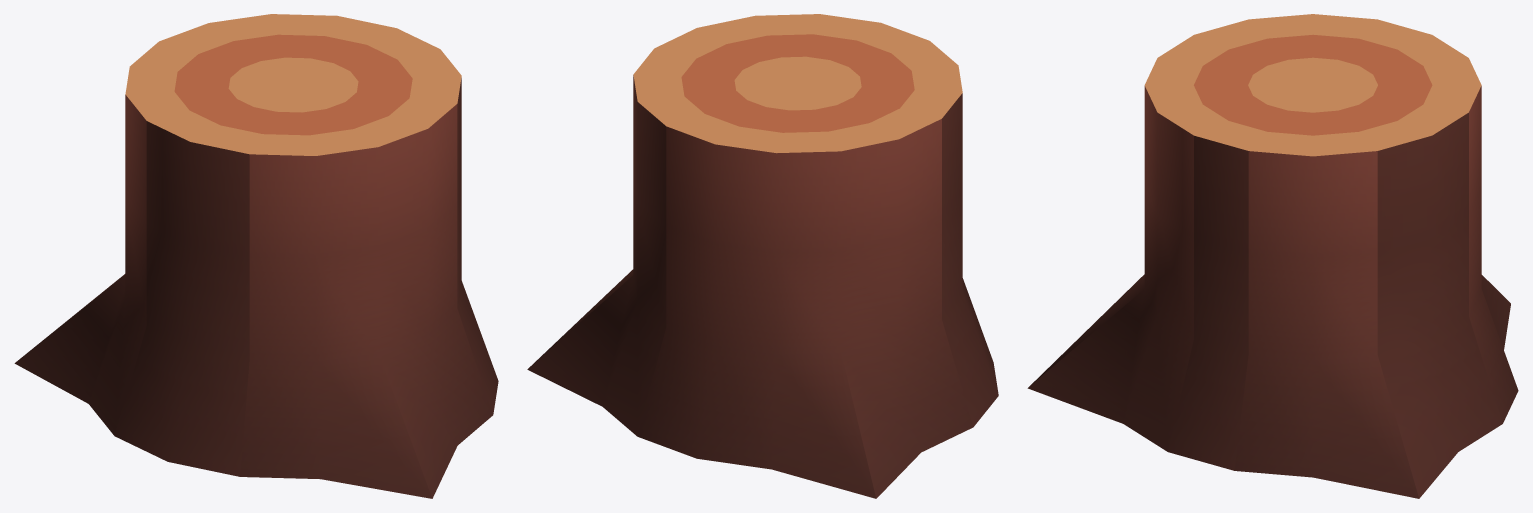
File: Stump.fbx
3 renders of one model, left to right at view 1: azimuth 30°, elevation 25°; view 2: azimuth 150°, elevation 25°; view 3: azimuth 270°, elevation 25°, orthographic. The views are drawn at different scales.
Parts seen in each view (by area): view 1: Stump; view 2: Stump; view 3: Stump.
Boxes of the visible parts, box(x1,y1,x2,y2) form: Stump: box(14, 14, 498, 498); Stump: box(527, 14, 998, 498); Stump: box(1027, 14, 1518, 498).
Size of the model in its own units: 88.69 by 64.69 by 94.25.
